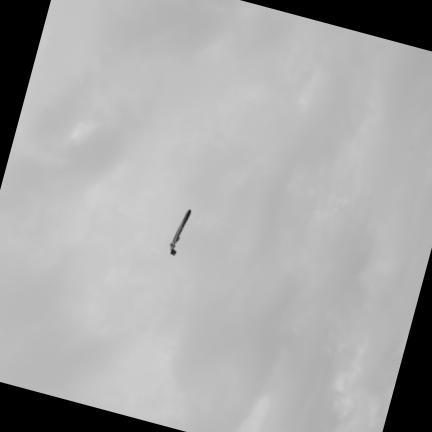Shahed: (170, 209, 190, 253)
